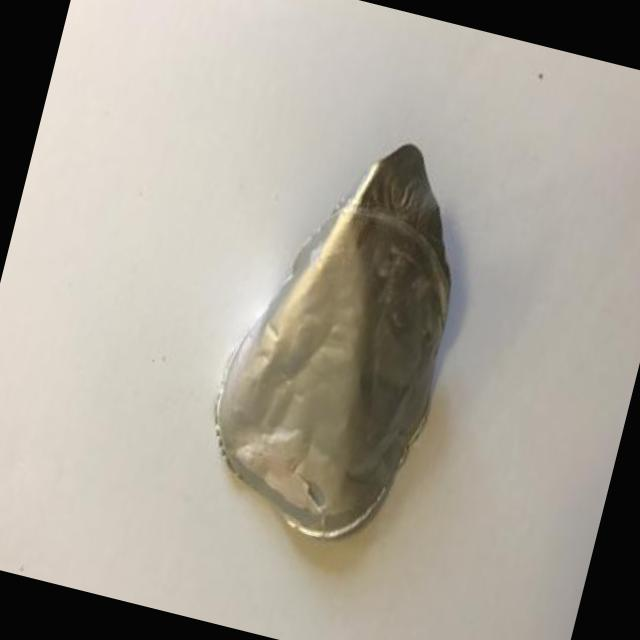nhom: (216, 144, 451, 539)
